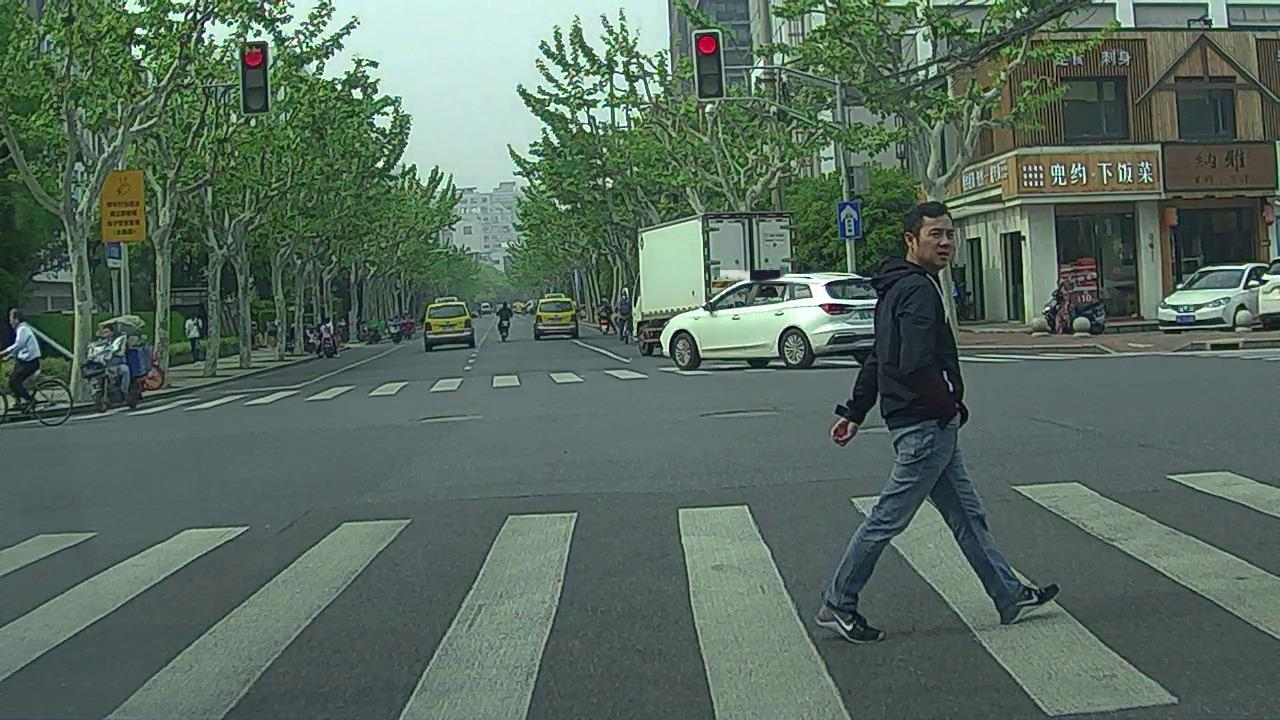traffic_light: (693, 33, 725, 99), (245, 40, 270, 113)
